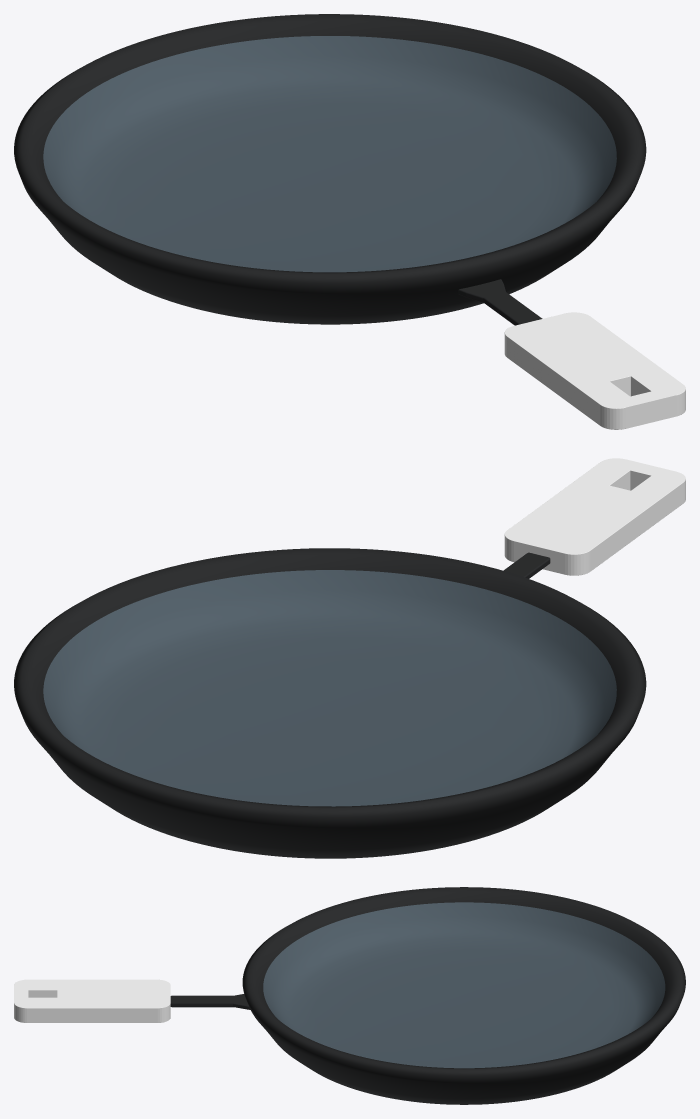
3 renders of one model, top to bottom at view 1: azimuth 30°, elevation 25°; view 2: azimuth 150°, elevation 25°; view 3: azimuth 270°, elevation 25°, orthographic. The views are drawn at different scales.
Parts seen in each view (by area): view 1: pan_body, wooden_grip_section, flat_handle_core; view 2: pan_body, wooden_grip_section, flat_handle_core; view 3: pan_body, wooden_grip_section, flat_handle_core.
Part boxes in pixels (bbox=[...]): pan_body: bbox=[14, 14, 646, 324]; wooden_grip_section: bbox=[504, 312, 685, 429]; flat_handle_core: bbox=[457, 279, 542, 325]; pan_body: bbox=[14, 548, 646, 858]; wooden_grip_section: bbox=[504, 458, 685, 575]; flat_handle_core: bbox=[503, 552, 550, 578]; pan_body: bbox=[242, 887, 685, 1104]; wooden_grip_section: bbox=[14, 979, 170, 1022]; flat_handle_core: bbox=[170, 994, 250, 1009].
Bounding box in the file's own units: 6.45 × 0.905 × 9.77.
